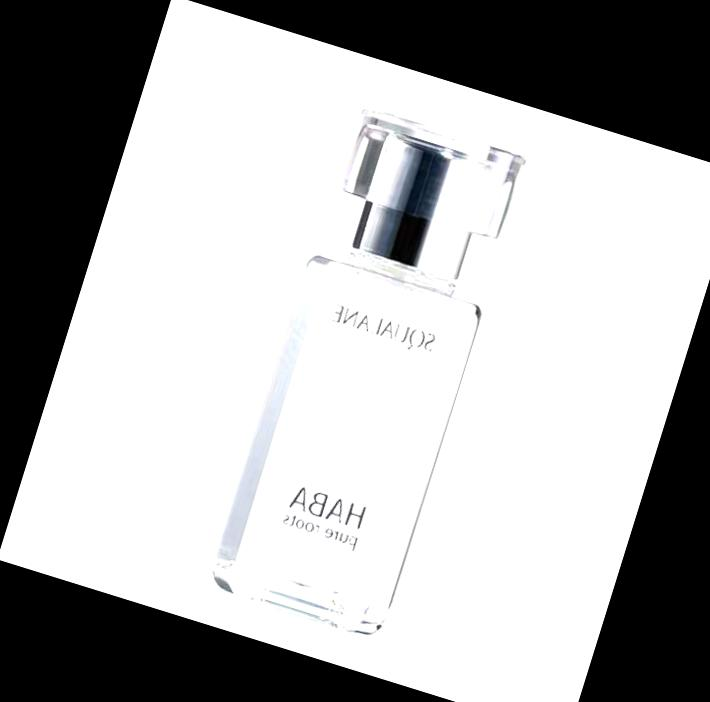cosmetic: (205, 101, 532, 640)
